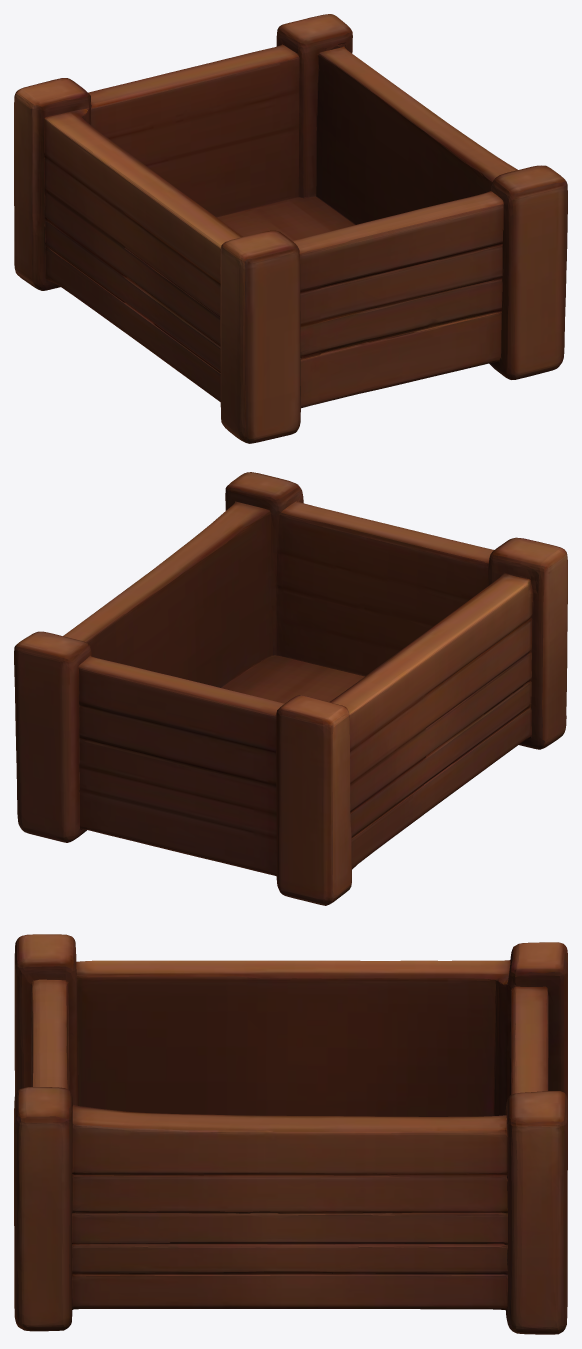
File: empty_plant_bed.glb
3 views of the same model, one above another, from view 1: azimuth 30°, elevation 25°; view 2: azimuth 150°, elevation 25°; view 3: azimuth 270°, elevation 25° (orthographic). The views are drawn at different scales.
Visible parts, largest first — view 1: world; view 2: world; view 3: world.
Part boxes in pixels (x1,y1,x2,y2): world: [14, 14, 567, 443]; world: [14, 472, 567, 905]; world: [14, 934, 567, 1334].
Bounding box in the file's own units: 0.7917 × 0.4493 × 0.998.
1 material, 1 textured.
